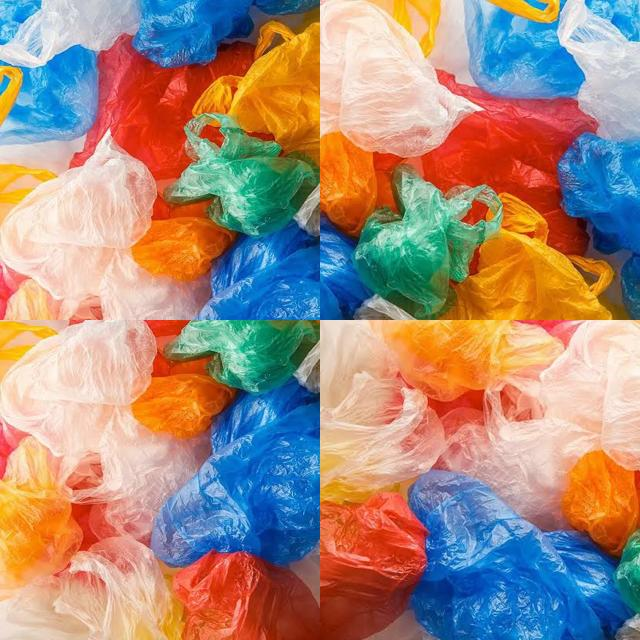Single-layer Plastic: (0, 320, 209, 539), (441, 320, 640, 529), (0, 132, 209, 319), (409, 470, 630, 640), (422, 70, 596, 254), (151, 380, 320, 566), (70, 35, 255, 180), (320, 0, 480, 158), (354, 164, 502, 319), (320, 321, 445, 502), (444, 192, 614, 320), (164, 112, 319, 238), (0, 536, 182, 640), (192, 22, 320, 164), (196, 219, 371, 320), (320, 492, 429, 639), (558, 134, 640, 319), (381, 320, 564, 401), (196, 221, 342, 320), (0, 436, 82, 599), (174, 550, 319, 640), (132, 0, 320, 68), (464, 0, 584, 98), (558, 0, 640, 140), (165, 320, 319, 394), (0, 45, 98, 144), (0, 0, 140, 67), (320, 132, 404, 238), (561, 450, 640, 556), (131, 374, 236, 439), (131, 218, 236, 281), (586, 0, 640, 41)
